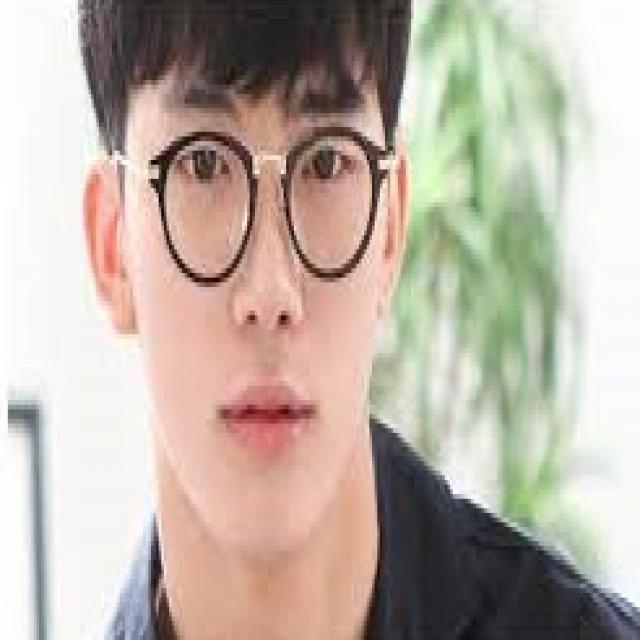Glasses: (94, 118, 400, 292)
